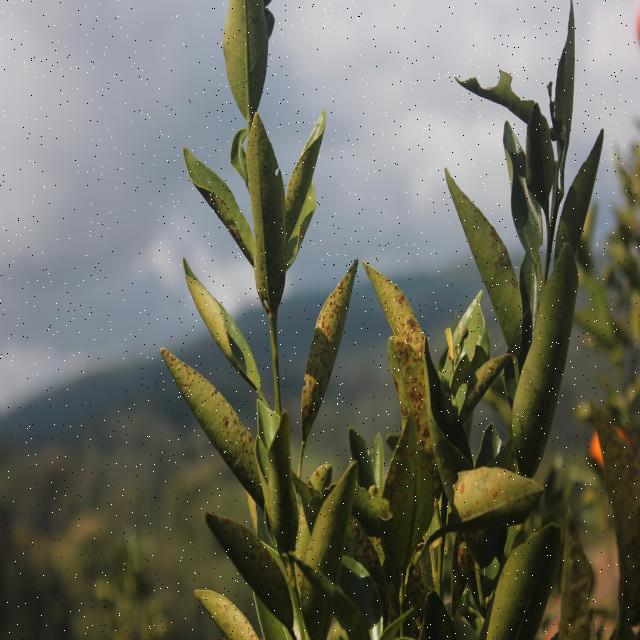melanose: (154, 340, 266, 504), (365, 260, 446, 455), (286, 256, 361, 444), (588, 409, 640, 629), (454, 463, 540, 528)
